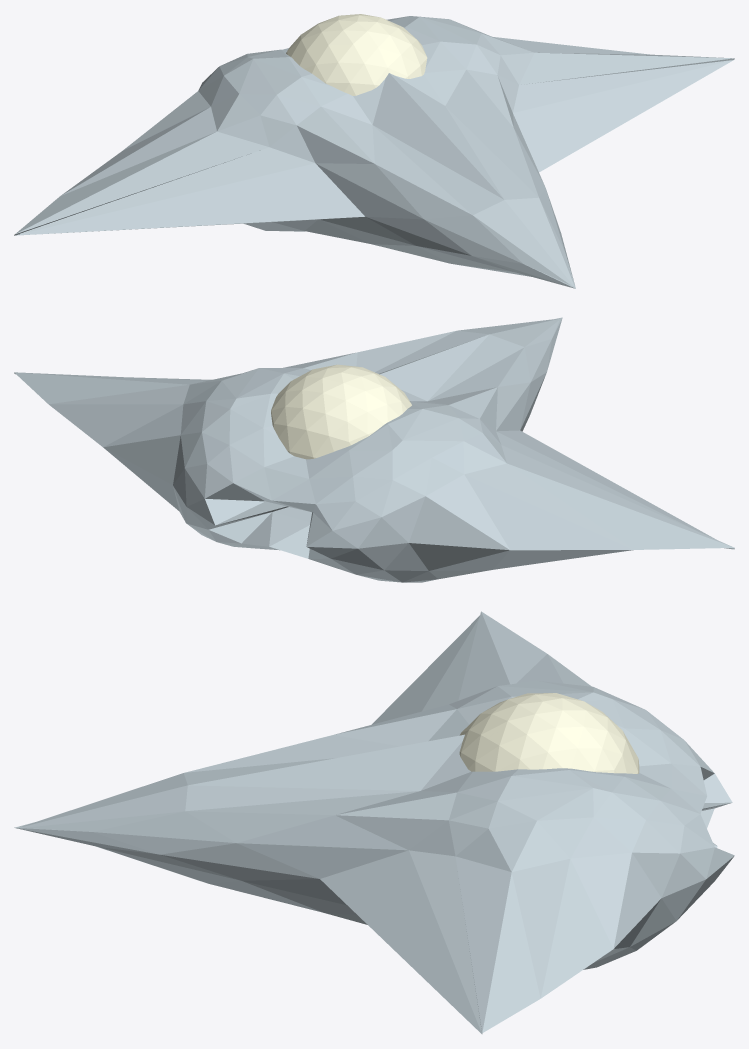
File: sparky.glb
The picture shows the model from 3 angles, top to bottom: view 1: azimuth 30°, elevation 25°; view 2: azimuth 150°, elevation 25°; view 3: azimuth 270°, elevation 25°; orthographic projection. The views are drawn at different scales.
Parts seen in each view (by area): view 1: Sparky; view 2: Sparky; view 3: Sparky.
Part boxes in pixels (x1=…): Sparky: x1=14, y1=14, x2=734, y2=288; Sparky: x1=14, y1=317, x2=734, y2=582; Sparky: x1=14, y1=611, x2=734, y2=1034.
Size of the model in its own units: 0.18 by 0.0426 by 0.1299.
